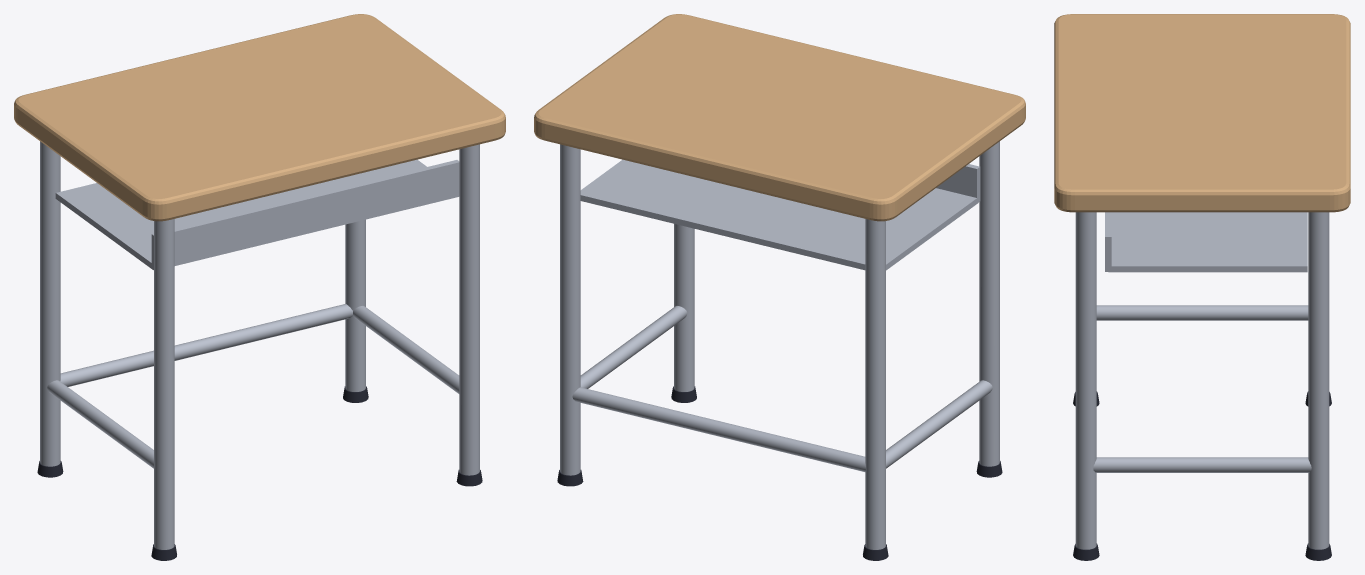
Rendered from sch-004.glb.
3 renders of one model, left to right at view 1: azimuth 30°, elevation 25°; view 2: azimuth 150°, elevation 25°; view 3: azimuth 270°, elevation 25°, orthographic. The views are drawn at different scales.
Visible parts, largest first — view 1: beech, steel, plastic_dark; view 2: beech, steel, plastic_dark; view 3: beech, steel, plastic_dark.
Boxes of the visible parts, <box> form: beech: <box>14,14,505,221</box>; steel: <box>40,141,479,549</box>; plastic_dark: <box>37,386,482,560</box>; beech: <box>534,14,1025,221</box>; steel: <box>560,141,999,549</box>; plastic_dark: <box>557,386,1002,560</box>; beech: <box>1054,14,1350,212</box>; steel: <box>1075,212,1329,549</box>; plastic_dark: <box>1073,391,1331,560</box>.
Bounding box in the file's own units: 0.766 × 0.7525 × 0.536.
